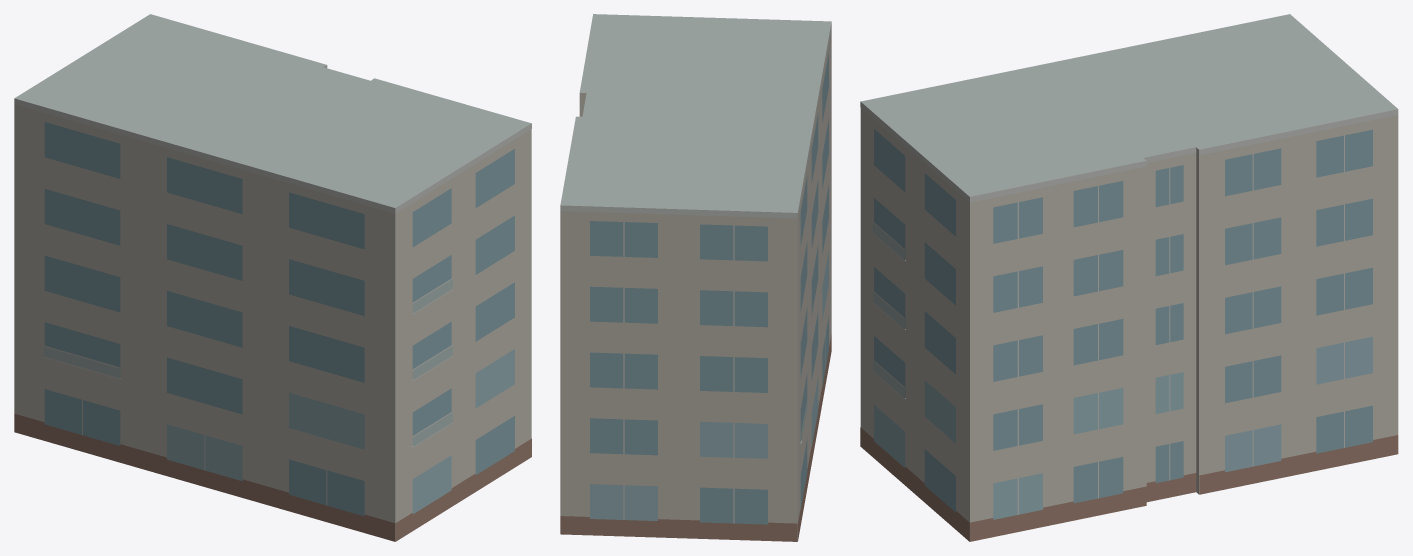
Rendered from survey-upis-32707367.glb.
3 views of the same model, side by side, from view 1: azimuth 30°, elevation 25°; view 2: azimuth 150°, elevation 25°; view 3: azimuth 270°, elevation 25° (orthographic). The views are drawn at different scales.
Parts seen in each view (by area): view 1: survey-upis-32707367.tmp; view 2: survey-upis-32707367.tmp; view 3: survey-upis-32707367.tmp.
Part boxes in pixels (<box>): survey-upis-32707367.tmp: <box>14,14,531,541</box>; survey-upis-32707367.tmp: <box>560,14,831,541</box>; survey-upis-32707367.tmp: <box>860,14,1398,541</box>.
Size of the model in its own units: 16.49 by 14.5 by 20.5.
